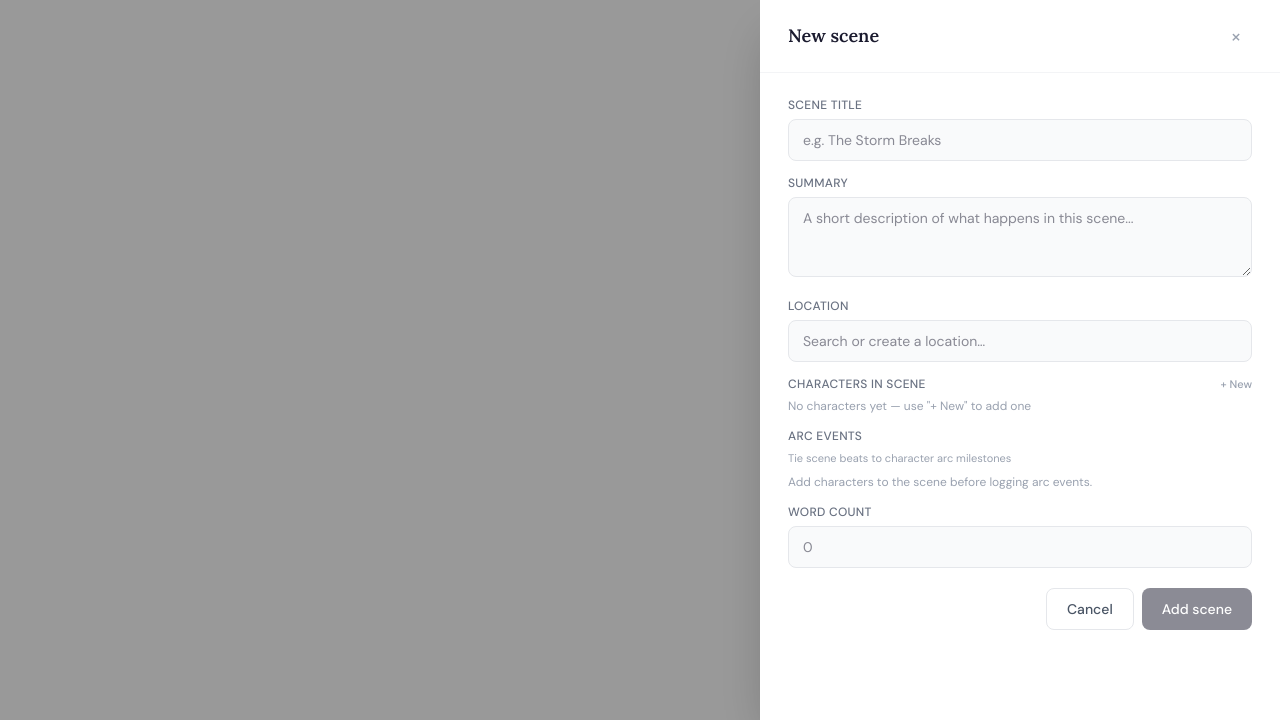
Scenario: SceneEditor › enables save when title is provided
The width and height of the screenshot is (1280, 720).
Type "Opening" into the field with placeholder "e.g. The Storm Breaks" at (1020, 140), box [788,119,1252,161]
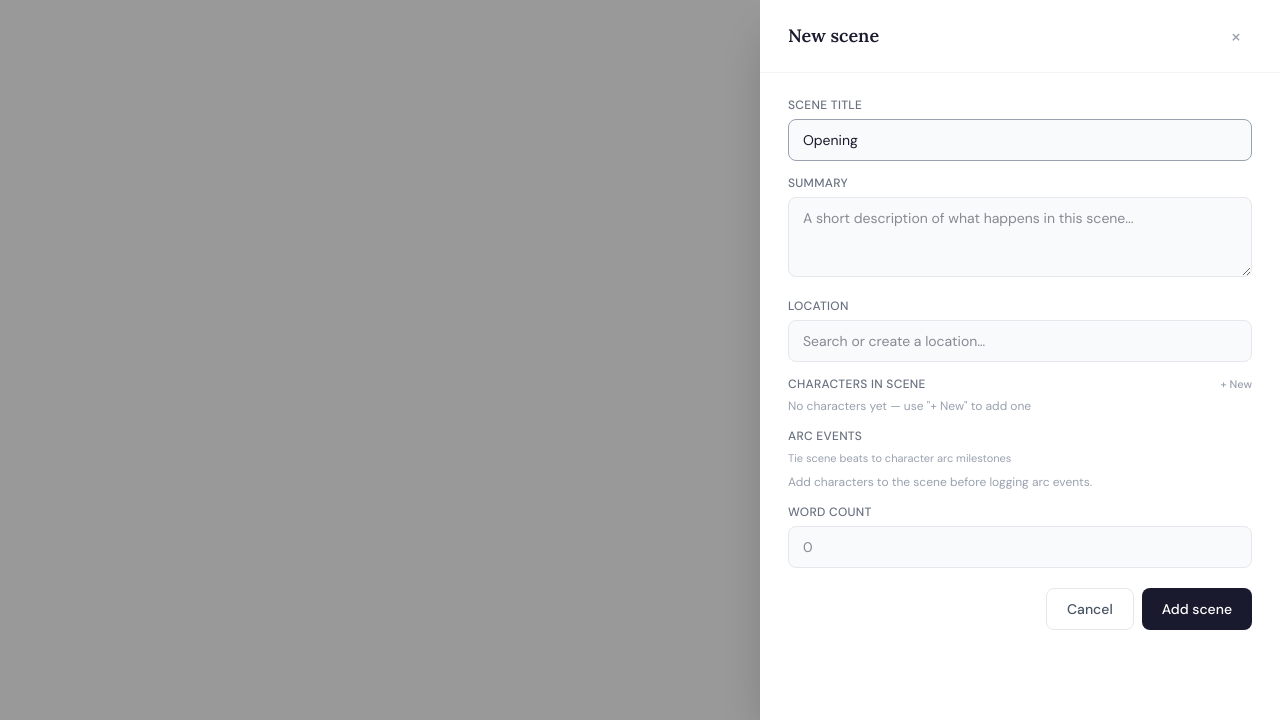
Check: the button "Add scene" is enabled, box [1142,588,1252,630]
